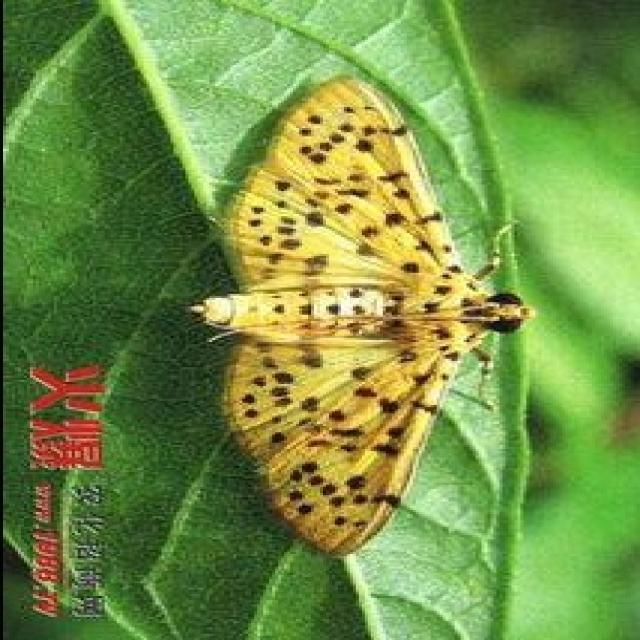peach borer: (170, 73, 544, 568)
